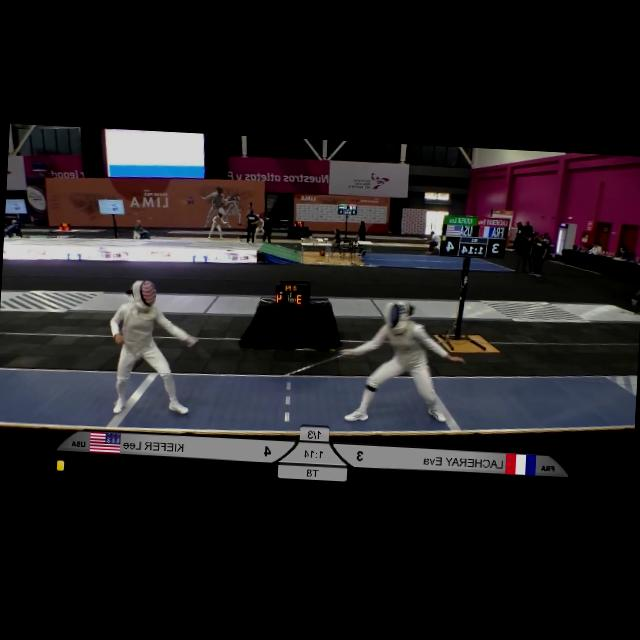blade: (276, 346, 348, 381), (184, 336, 222, 374)
